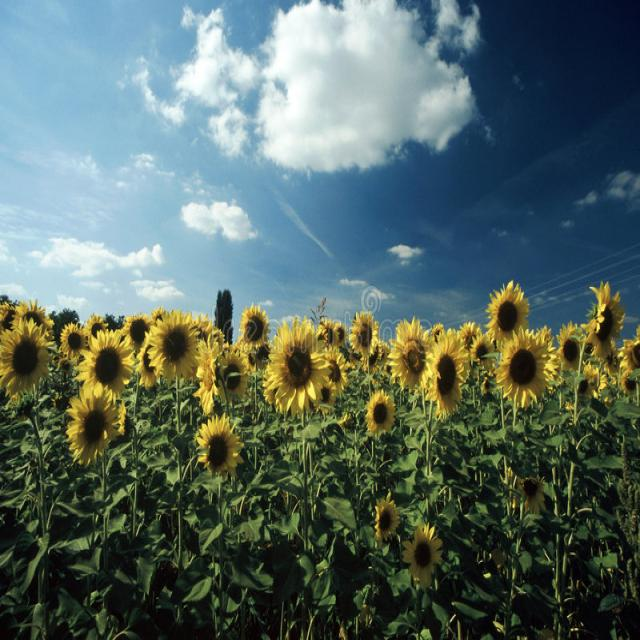sunflower: (258, 310, 336, 413), (136, 304, 202, 400), (415, 325, 475, 419), (60, 380, 124, 467), (73, 326, 138, 406), (494, 318, 550, 408), (0, 312, 50, 412), (583, 274, 625, 366), (188, 412, 246, 478), (480, 274, 533, 346), (400, 519, 450, 592), (214, 346, 253, 408), (360, 386, 399, 440), (345, 310, 385, 361), (369, 490, 402, 545)
